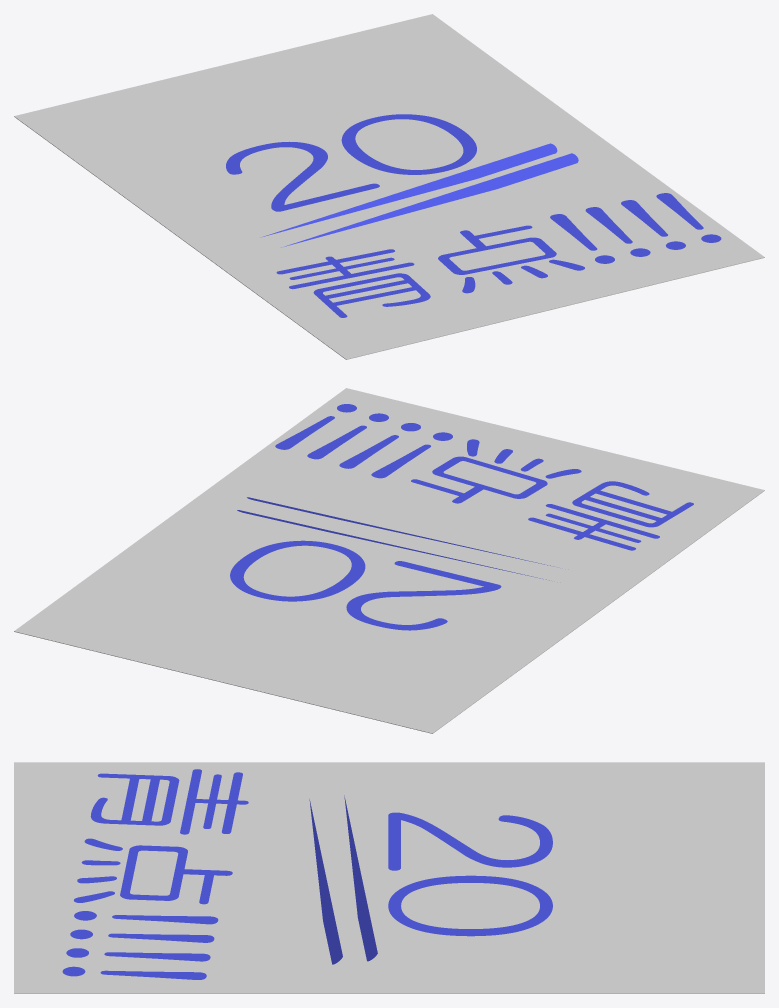
3 views of the same model, one above another, from view 1: azimuth 30°, elevation 25°; view 2: azimuth 150°, elevation 25°; view 3: azimuth 270°, elevation 25° (orthographic). The views are drawn at different scales.
Parts seen in each view (by area): view 1: 立方体, テキスト.001, テキスト, 立方体.001, 立方体.002; view 2: 立方体, テキスト.001, テキスト, 立方体.001, 立方体.002; view 3: 立方体, テキスト.001, テキスト, 立方体.001, 立方体.002.
Boxes of the visible parts, x1=… form: 立方体: x1=14, y1=14, x2=764, y2=359; テキスト.001: x1=276, y1=193, x2=721, y2=317; テキスト: x1=226, y1=114, x2=476, y2=211; 立方体.001: x1=261, y1=143, x2=557, y2=237; 立方体.002: x1=281, y1=153, x2=578, y2=247; 立方体: x1=14, y1=388, x2=764, y2=733; テキスト.001: x1=275, y1=404, x2=693, y2=550; テキスト: x1=230, y1=540, x2=501, y2=630; 立方体.001: x1=237, y1=510, x2=549, y2=580; 立方体.002: x1=247, y1=497, x2=553, y2=566; 立方体: x1=14, y1=762, x2=764, y2=993; テキスト.001: x1=62, y1=769, x2=248, y2=979; テキスト: x1=388, y1=812, x2=552, y2=936; 立方体.001: x1=344, y1=795, x2=377, y2=961; 立方体.002: x1=309, y1=799, x2=342, y2=964.
Bounding box in the file's own units: 160 × 9.38 × 220.
